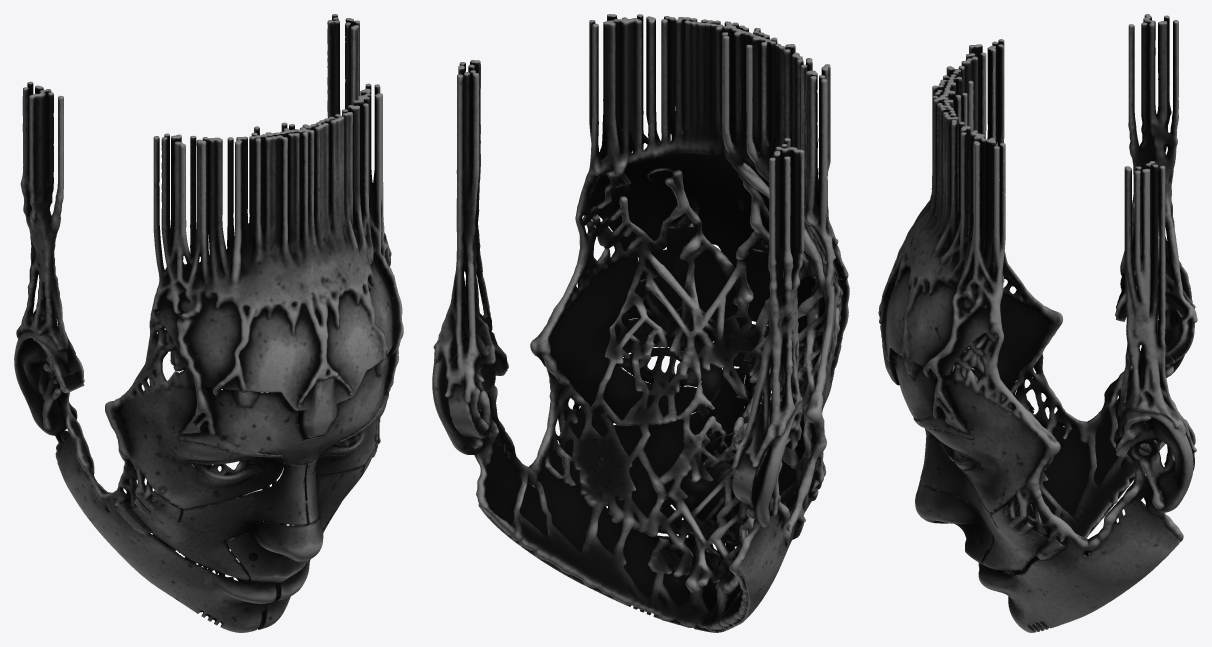
File: soulless.glb
The picture shows the model from 3 angles, left to right: view 1: azimuth 30°, elevation 25°; view 2: azimuth 150°, elevation 25°; view 3: azimuth 270°, elevation 25°; orthographic projection. The views are drawn at different scales.
Parts seen in each view (by area): view 1: Head1:Mesh; view 2: Head1:Mesh; view 3: Head1:Mesh.
Boxes of the visible parts, x1,y1,x2,y2 form: Head1:Mesh: [14, 14, 403, 632]; Head1:Mesh: [432, 14, 849, 632]; Head1:Mesh: [878, 14, 1197, 632].
Size of the model in its own units: 342 by 525 by 287.
1 material, 1 textured.
